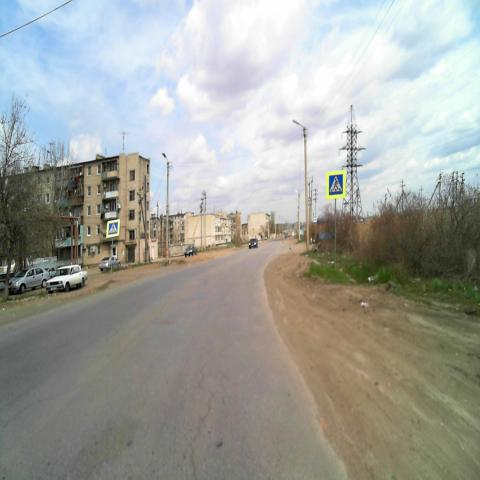5_19_1: (327, 171, 346, 198), (107, 219, 120, 237)
